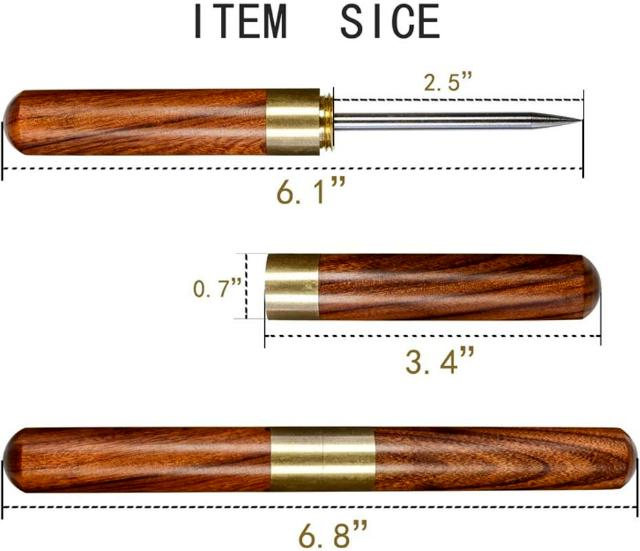ice pick: (1, 86, 583, 156)
